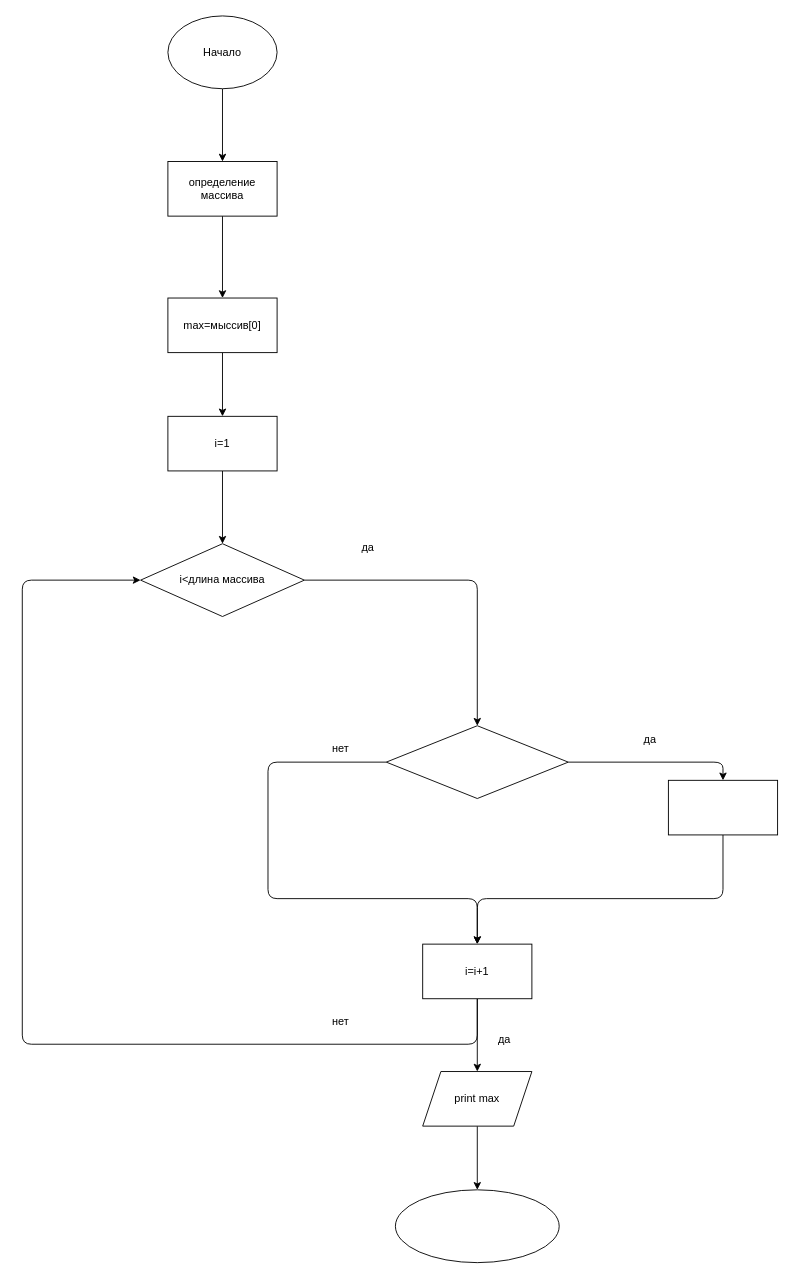
Some shapes in this 794 by 1279 pixel diagram are drawn without their labels. Here are the shapes that lost their labels. From the top down, the centre of each, then its label:
At (476,762): "max<мфссив[i]?".
At (722,807): "max=массив[i]".
At (476,1226): "Конец".
